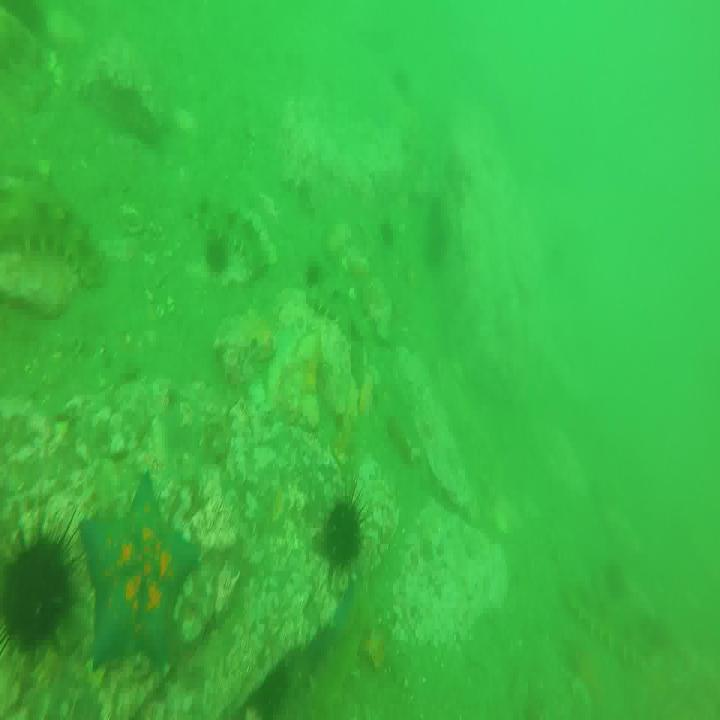echinus: (3, 524, 77, 654), (324, 497, 363, 571)
holothurian: (0, 171, 112, 289), (564, 584, 655, 666), (188, 191, 268, 268), (303, 279, 365, 364)
starfish: (83, 477, 201, 669)
